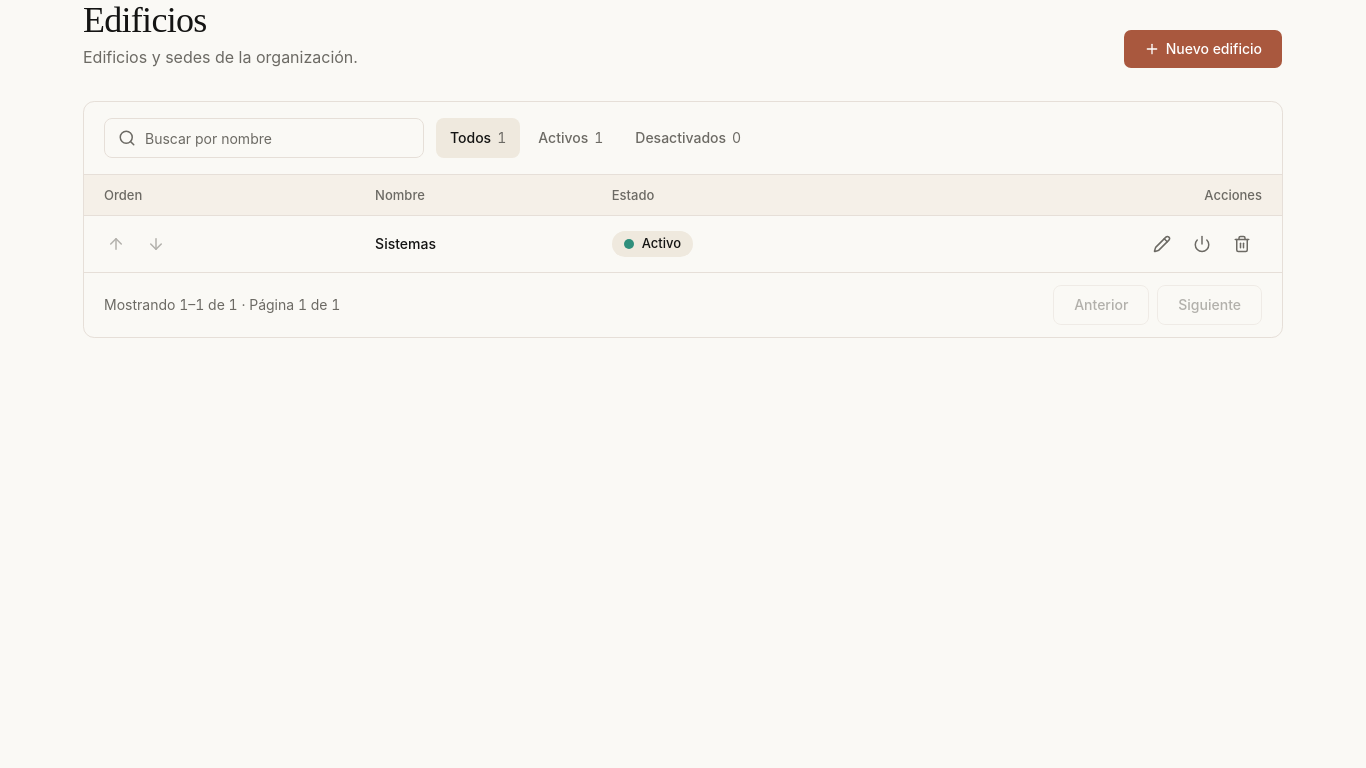
Scenario: CatalogsAdmin › no envía un nombre vacío
Expected: the text "Sistemas" is shown, [375,235,436,252]
Click the button "Nuevo edificio": point(1203, 49) [1123,29,1283,69]
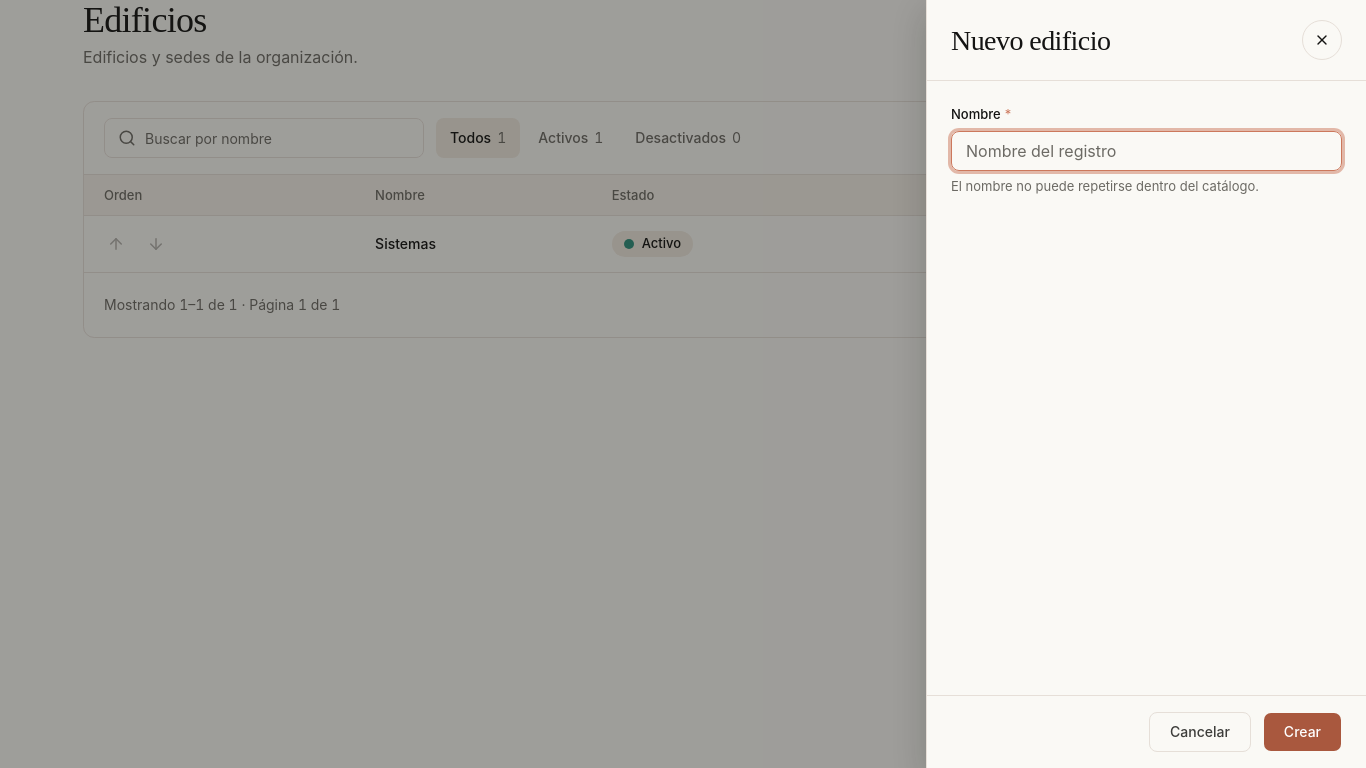
Click the button "Crear": point(1302, 732) [1263,712,1342,752]
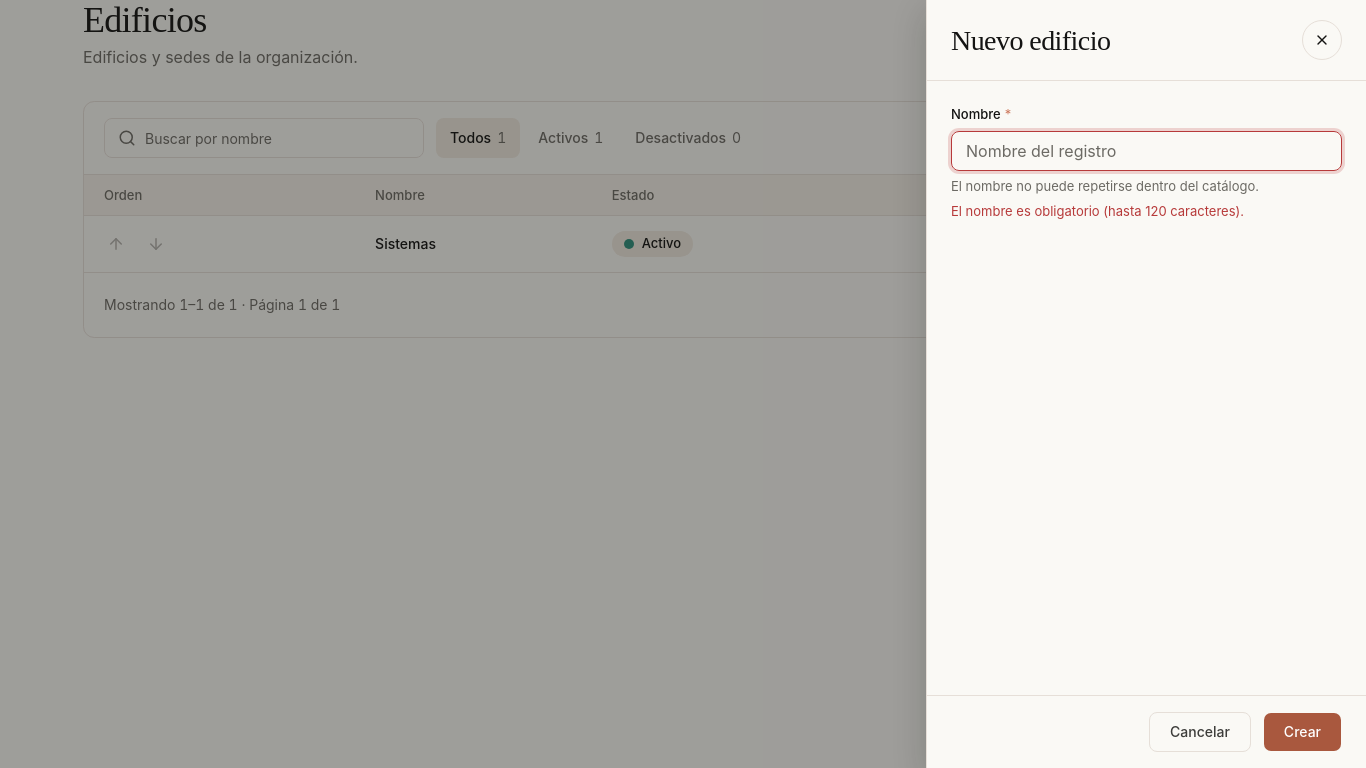
Expected: the text "El nombre es obligatorio (hasta 120 caracteres)." is shown, [951,203,1244,219]
